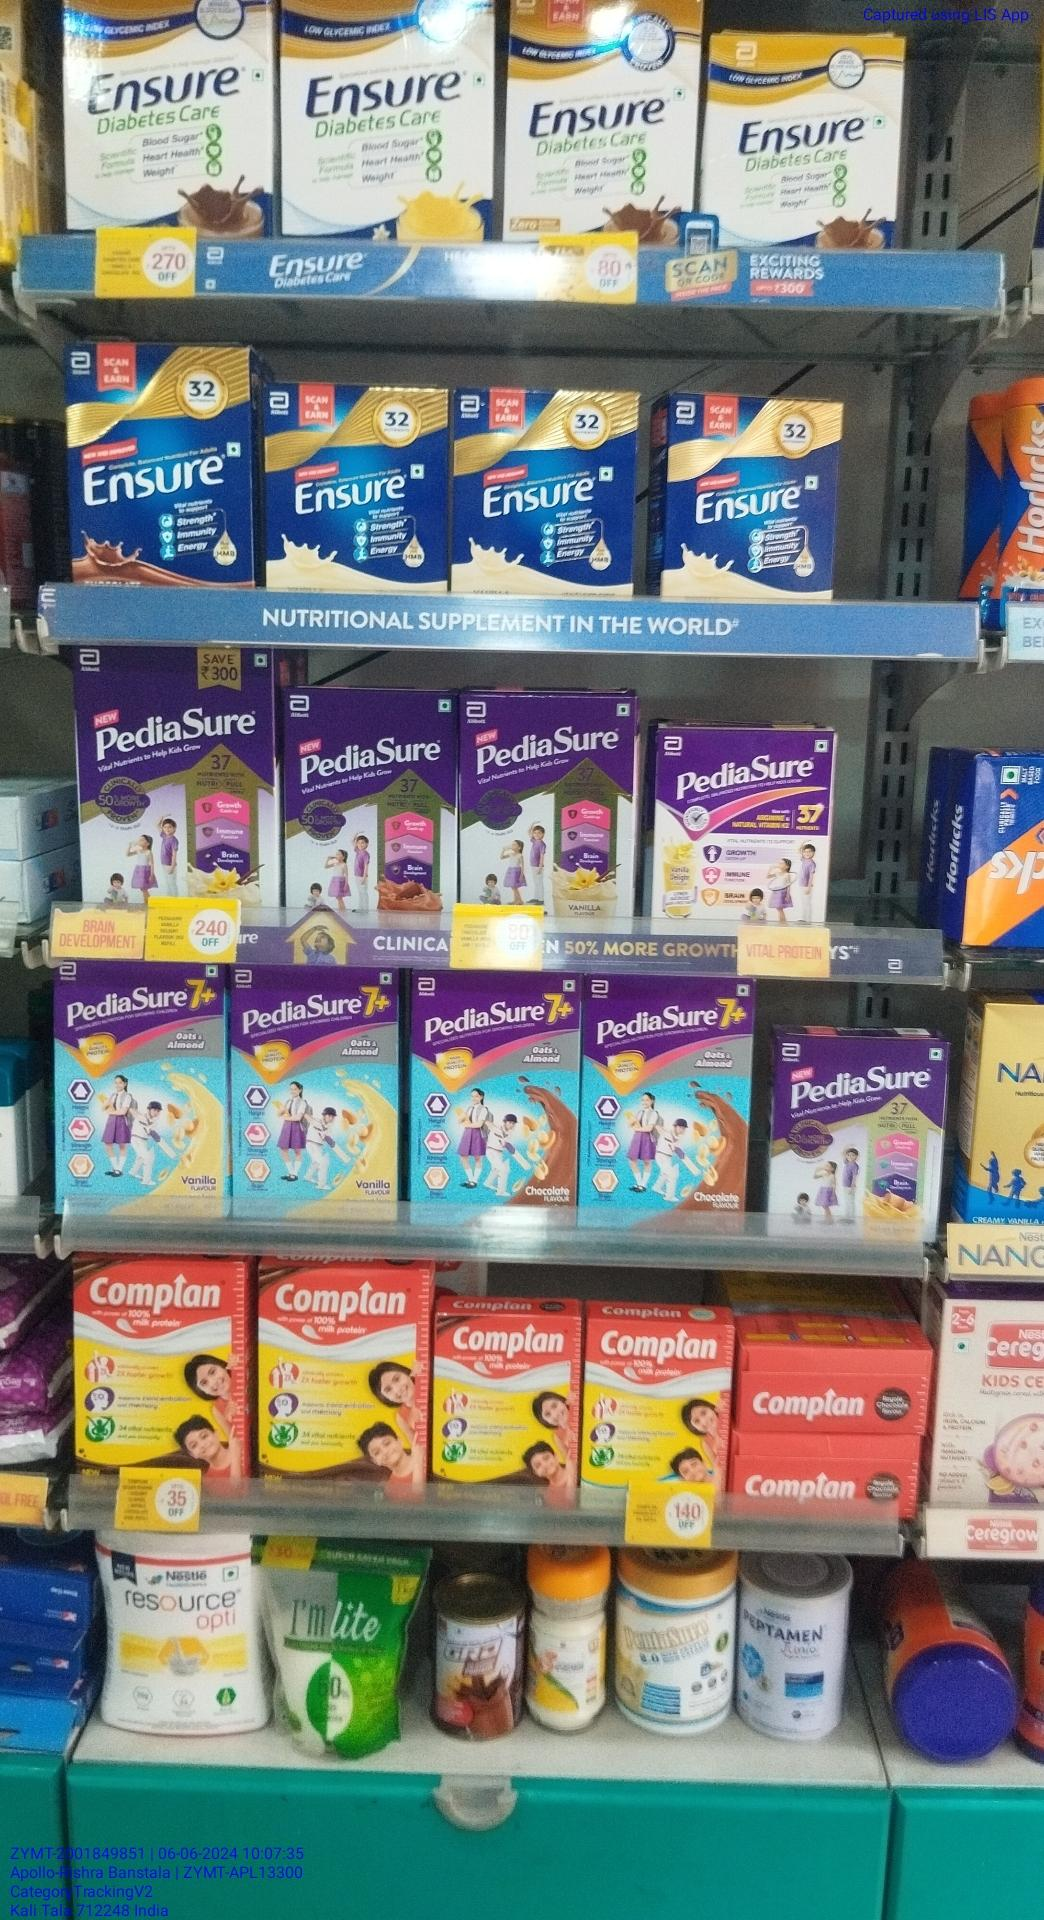ENSURE_VANILLA_400_G_PACK: (265, 384, 451, 591), (453, 393, 636, 596), (672, 395, 836, 600)
